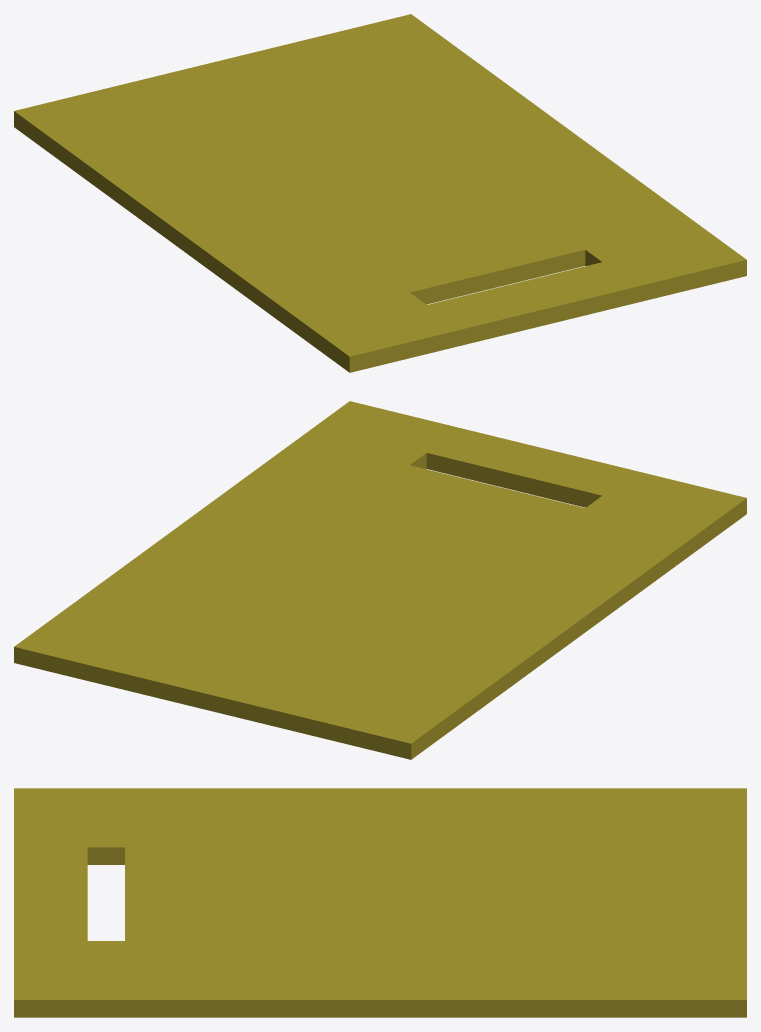
File: plate_3.fbx
The picture shows the model from 3 angles, top to bottom: view 1: azimuth 30°, elevation 25°; view 2: azimuth 150°, elevation 25°; view 3: azimuth 270°, elevation 25°; orthographic projection. The views are drawn at different scales.
Visible parts, largest first — view 1: wood_plate; view 2: wood_plate; view 3: wood_plate.
Part boxes in pixels (<box>): wood_plate: <box>14,14,746,372</box>; wood_plate: <box>14,401,746,759</box>; wood_plate: <box>14,788,746,1017</box>.
Bounding box in the file's own units: 0.4654 × 0.0181 × 0.6814.
